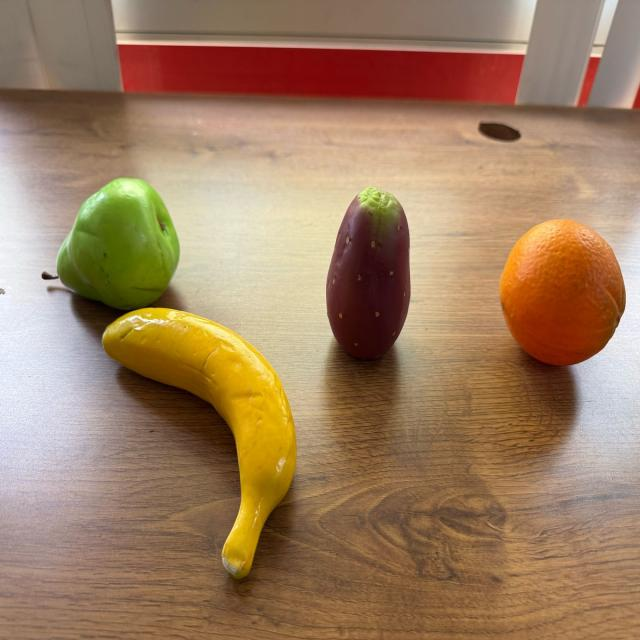banana: (100, 308, 296, 580)
orange: (497, 218, 628, 366)
pear: (41, 176, 182, 310)
tuna: (325, 187, 411, 361)
